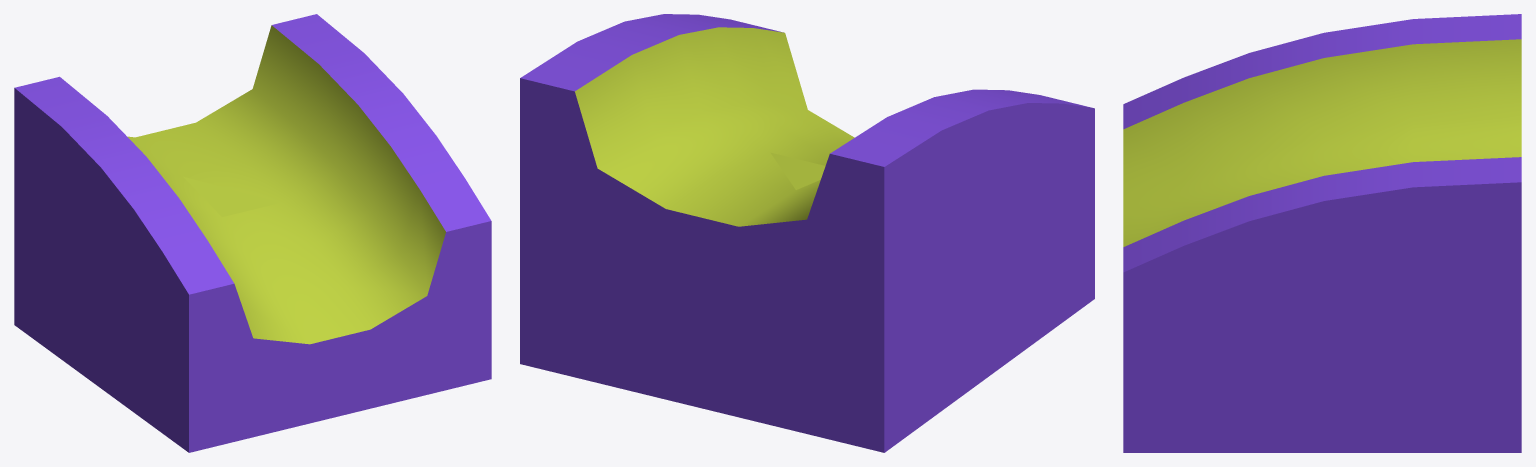
Rendered from rampEnd_solid_B-col.dae.
The picture shows the model from 3 angles, left to right: view 1: azimuth 30°, elevation 25°; view 2: azimuth 150°, elevation 25°; view 3: azimuth 270°, elevation 25°; orthographic projection. The views are drawn at different scales.
Visible parts, largest first — view 1: rampEnd_solid_B-col; view 2: rampEnd_solid_B-col; view 3: rampEnd_solid_B-col.
Boxes of the visible parts, x1,y1,x2,y2 form: rampEnd_solid_B-col: (14, 14, 491, 452); rampEnd_solid_B-col: (520, 14, 1094, 452); rampEnd_solid_B-col: (1123, 14, 1521, 452).
Size of the model in its own units: 1 by 1 by 0.75.
